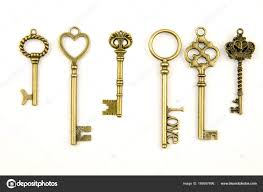key: (56, 24, 95, 149), (148, 29, 185, 149), (185, 25, 221, 143), (102, 29, 136, 123), (224, 29, 257, 120), (17, 29, 51, 110)
